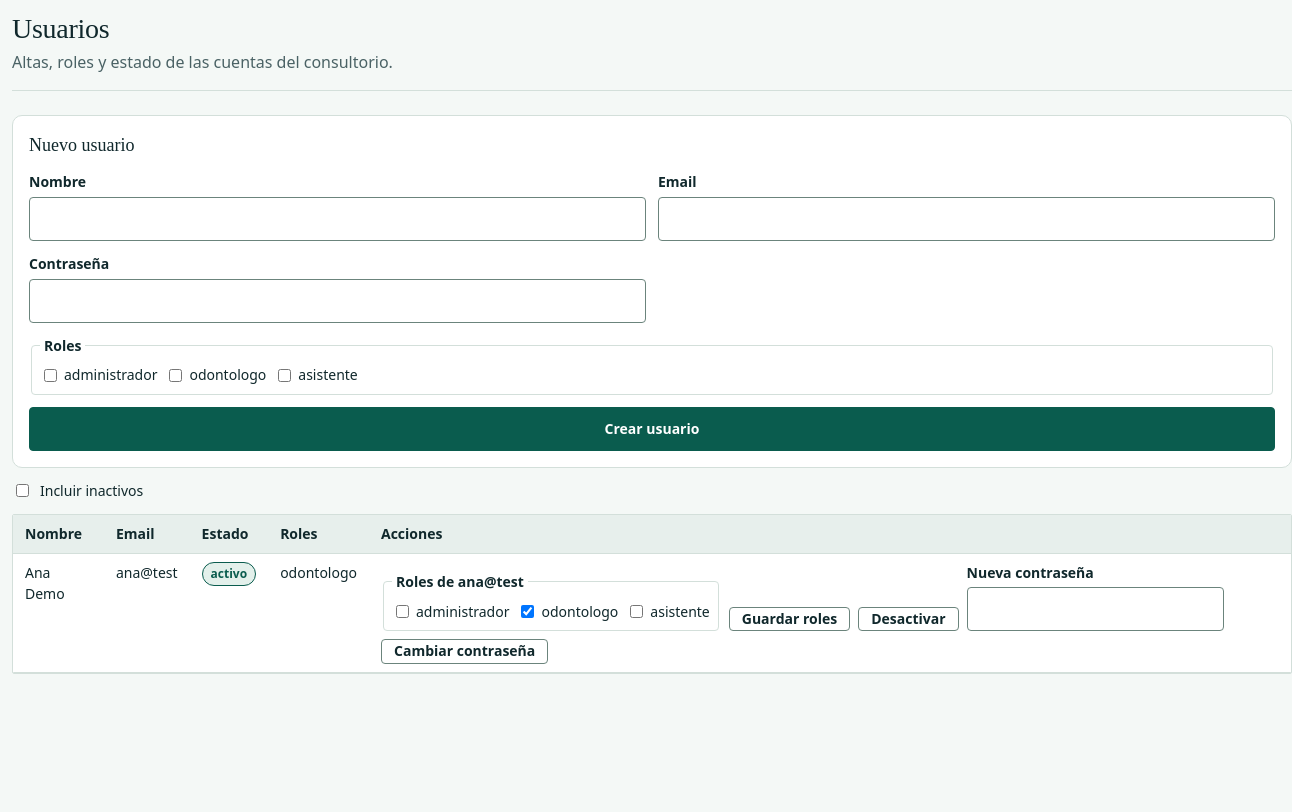
UsuariosPage › desactiva una cuenta con PATCH y refresca el estado
Check: the text "Ana Demo" is shown, box 13,553 -> 104,672
Click the button "Desactivar" at (908, 619), box 858,607 -> 959,631
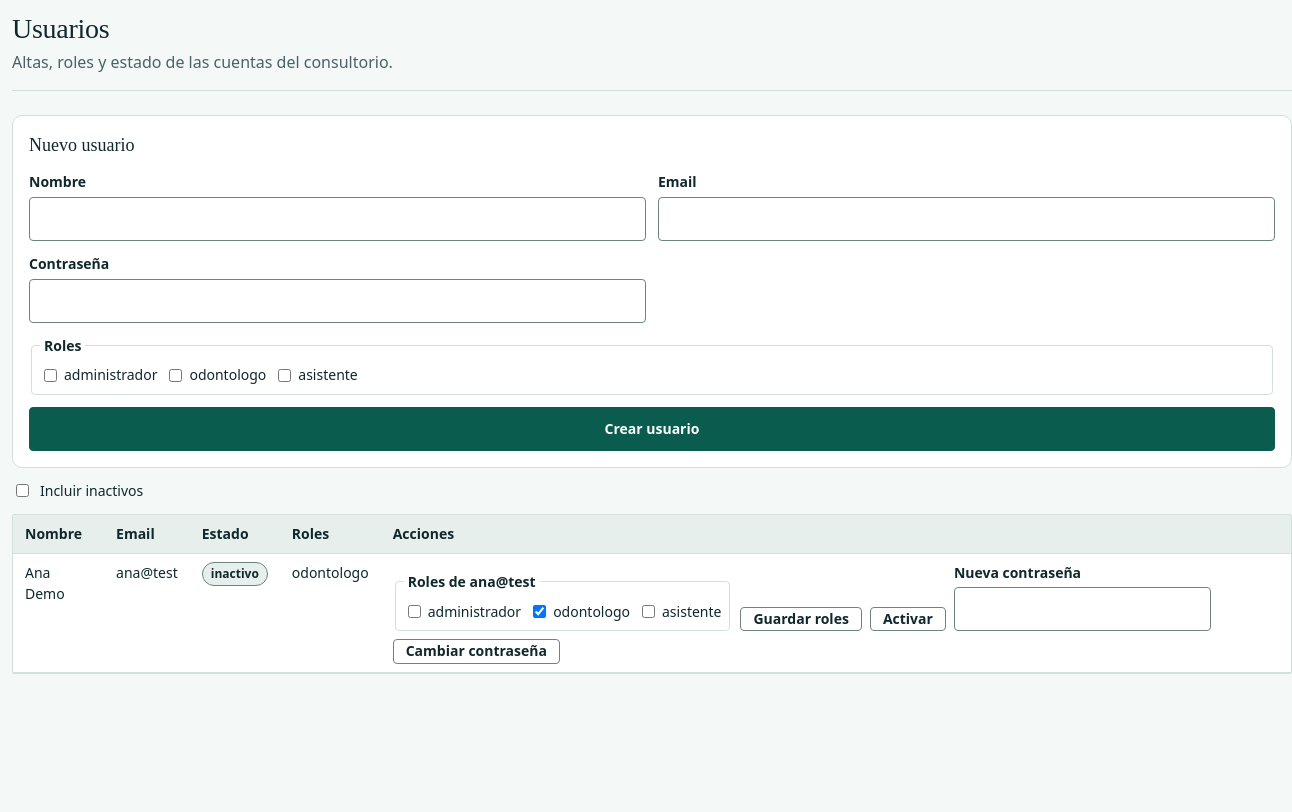
Check: the text "inactivo" is shown, box 202,562 -> 268,586
